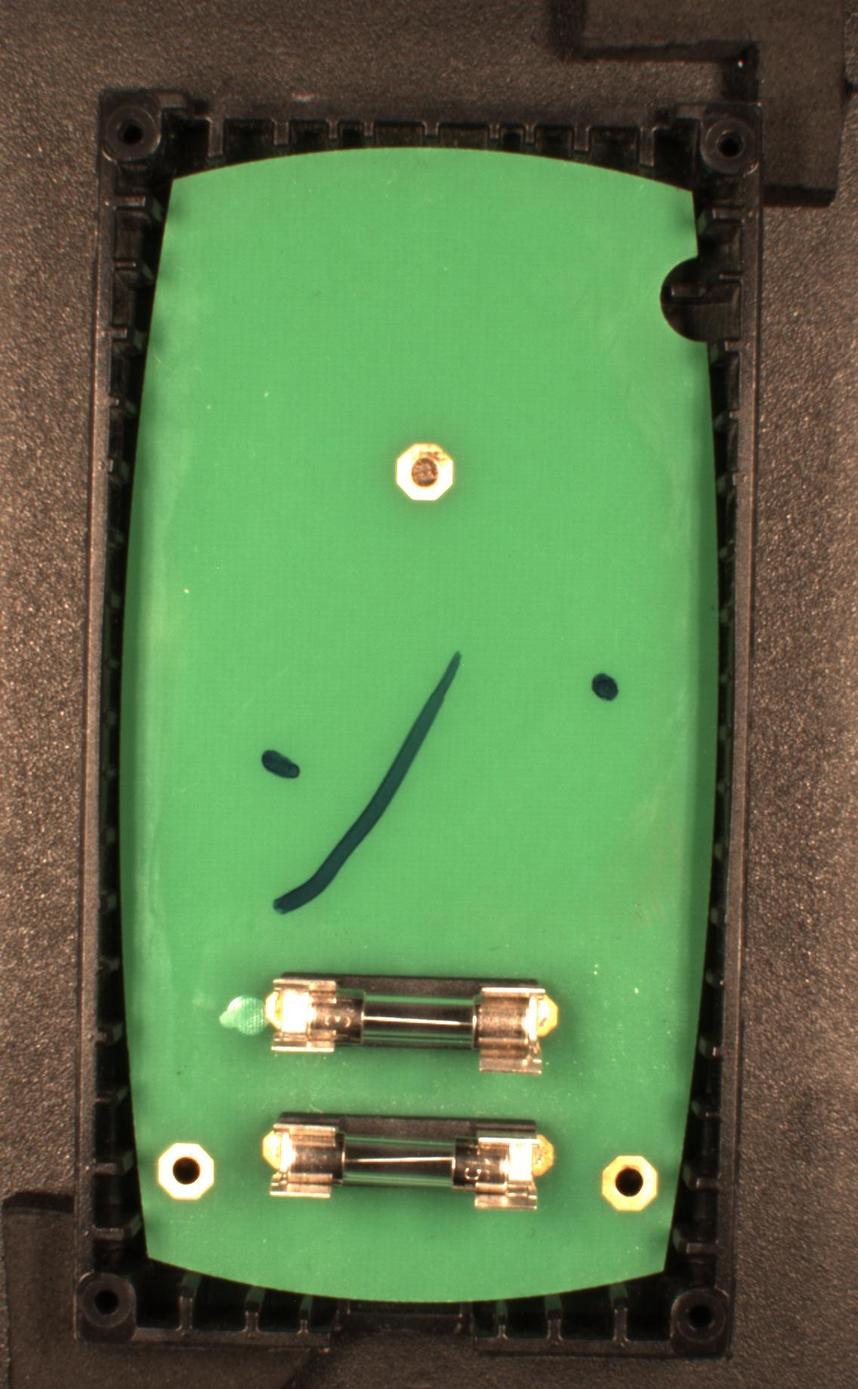Linijsko Ostecene: (271, 647, 466, 917)
Tockasto Ostecenje: (259, 745, 303, 782), (586, 670, 624, 704)
